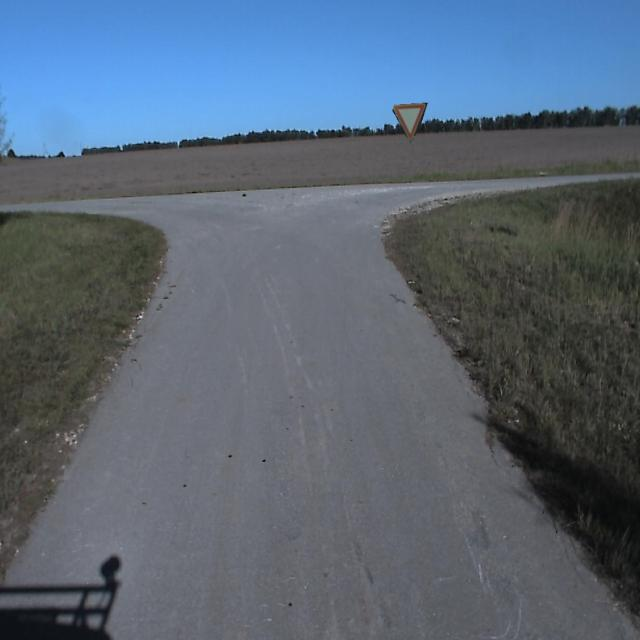road: (0, 174, 639, 639)
